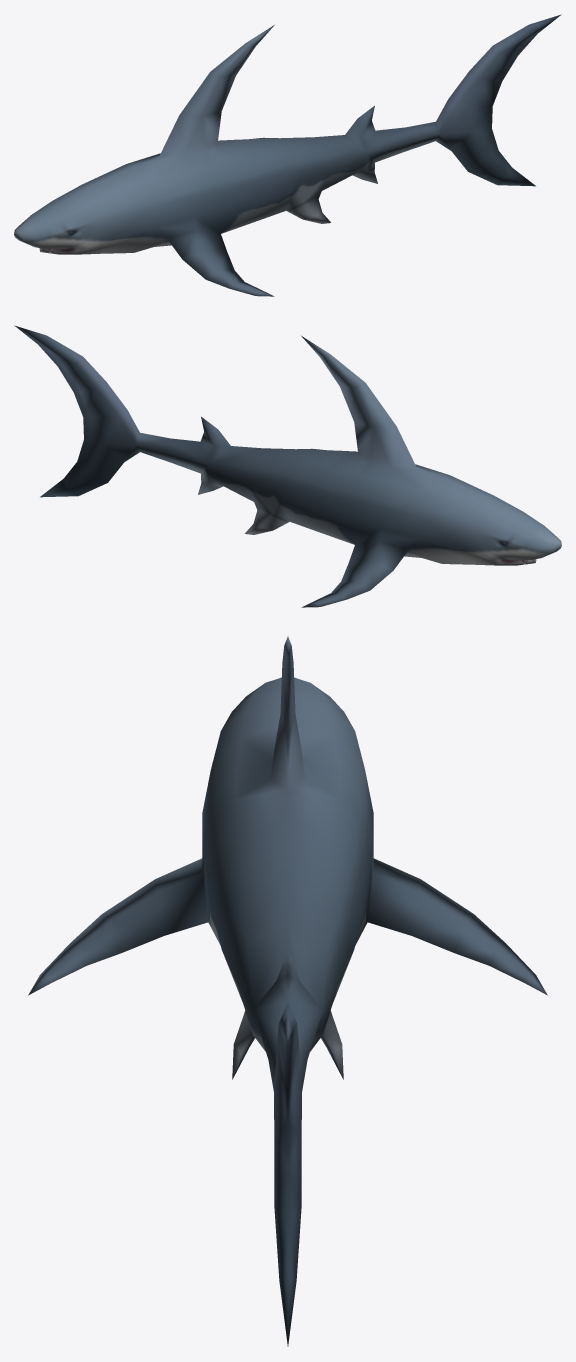
Rendered from f24_shayu.FBX.
3 renders of one model, top to bottom at view 1: azimuth 30°, elevation 25°; view 2: azimuth 150°, elevation 25°; view 3: azimuth 270°, elevation 25°, orthographic. The views are drawn at different scales.
Parts seen in each view (by area): view 1: f24_shayu; view 2: f24_shayu; view 3: f24_shayu.
Part boxes in pixels (x1,y1,x2,y2): f24_shayu: [14, 14, 561, 296]; f24_shayu: [14, 325, 561, 607]; f24_shayu: [28, 636, 547, 1346].
Bounding box in the file's own units: 864 × 340 × 355.
1 material, 1 textured.
